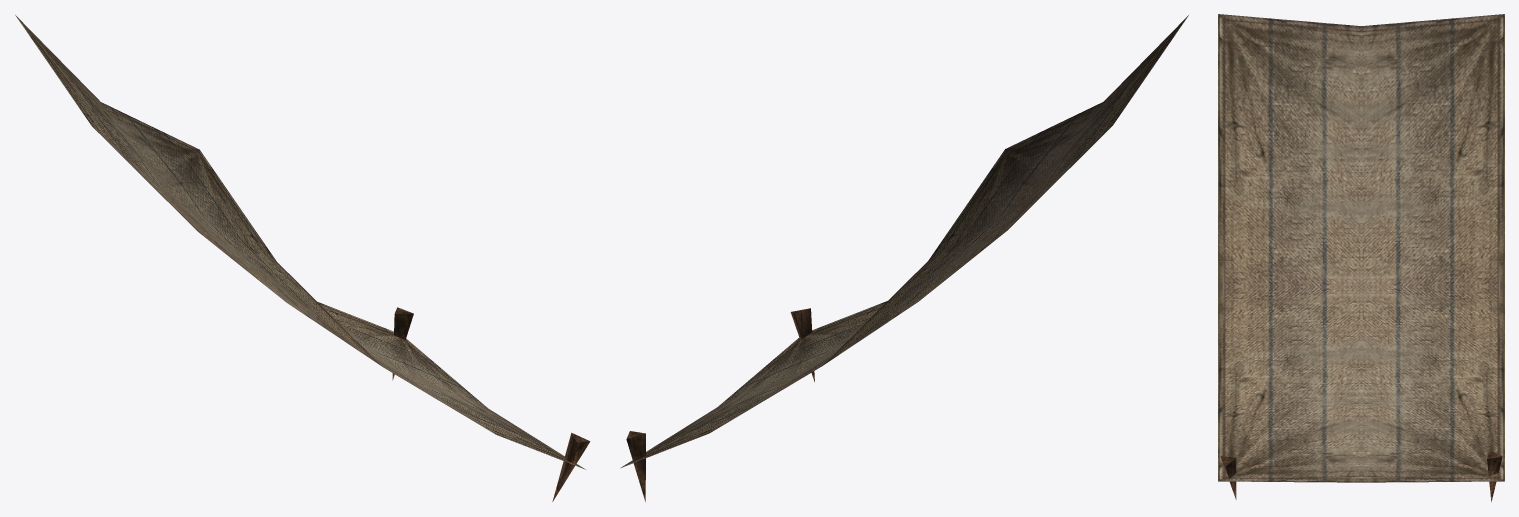
Rendered from Building18_b.FBX.
3 views of the same model, side by side, from view 1: azimuth 30°, elevation 25°; view 2: azimuth 150°, elevation 25°; view 3: azimuth 270°, elevation 25° (orthographic). The views are drawn at different scales.
Visible parts, largest first — view 1: Building18_b; view 2: Building18_b; view 3: Building18_b.
Boxes of the visible parts, box(x1,y1,x2,y2) form: Building18_b: box(15, 15, 590, 501); Building18_b: box(620, 15, 1188, 501); Building18_b: box(1218, 14, 1504, 502).
Size of the model in its own units: 245 by 263 by 195.
